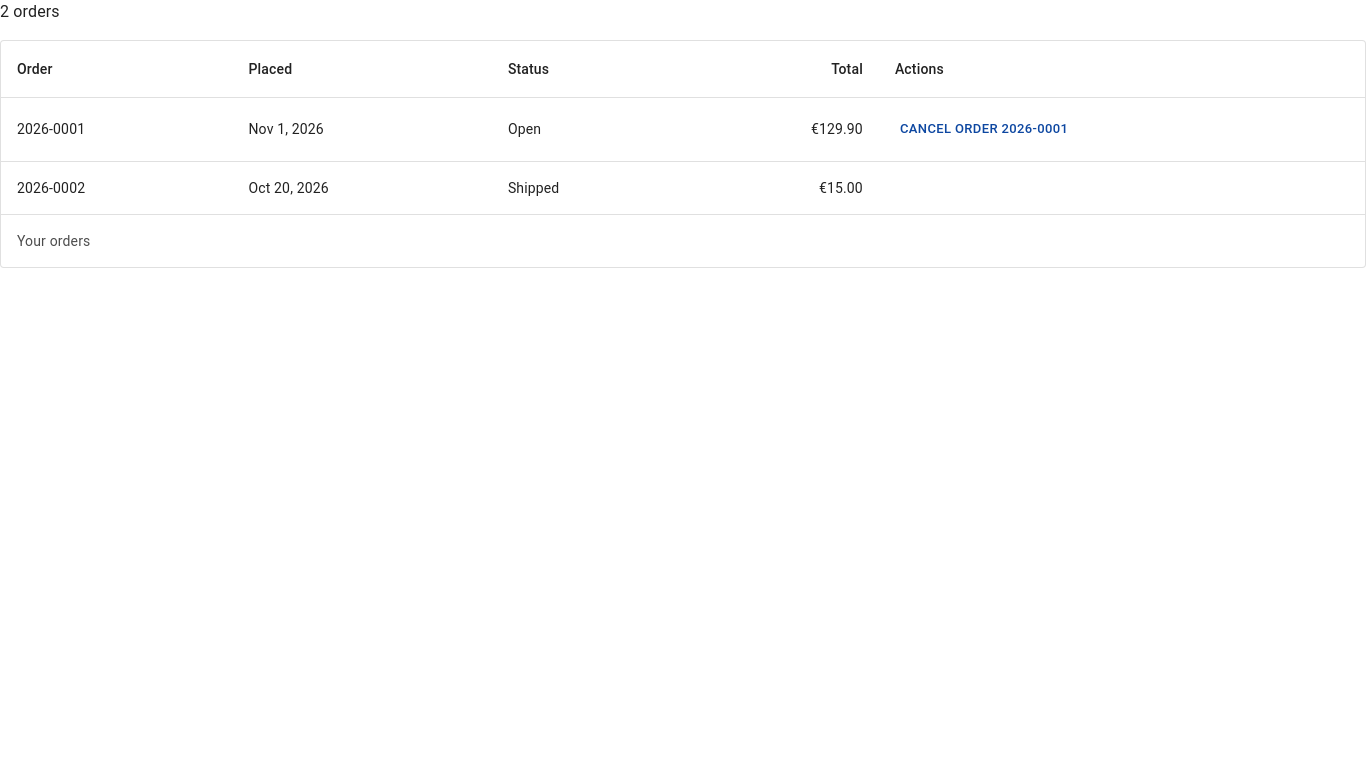
Test: OrdersPanel › shows the business error when the order already shipped, without reporting it
The width and height of the screenshot is (1366, 768).
Click the button "Cancel order 2026-0001". click: (984, 129)
box: [895,114,1073,145]
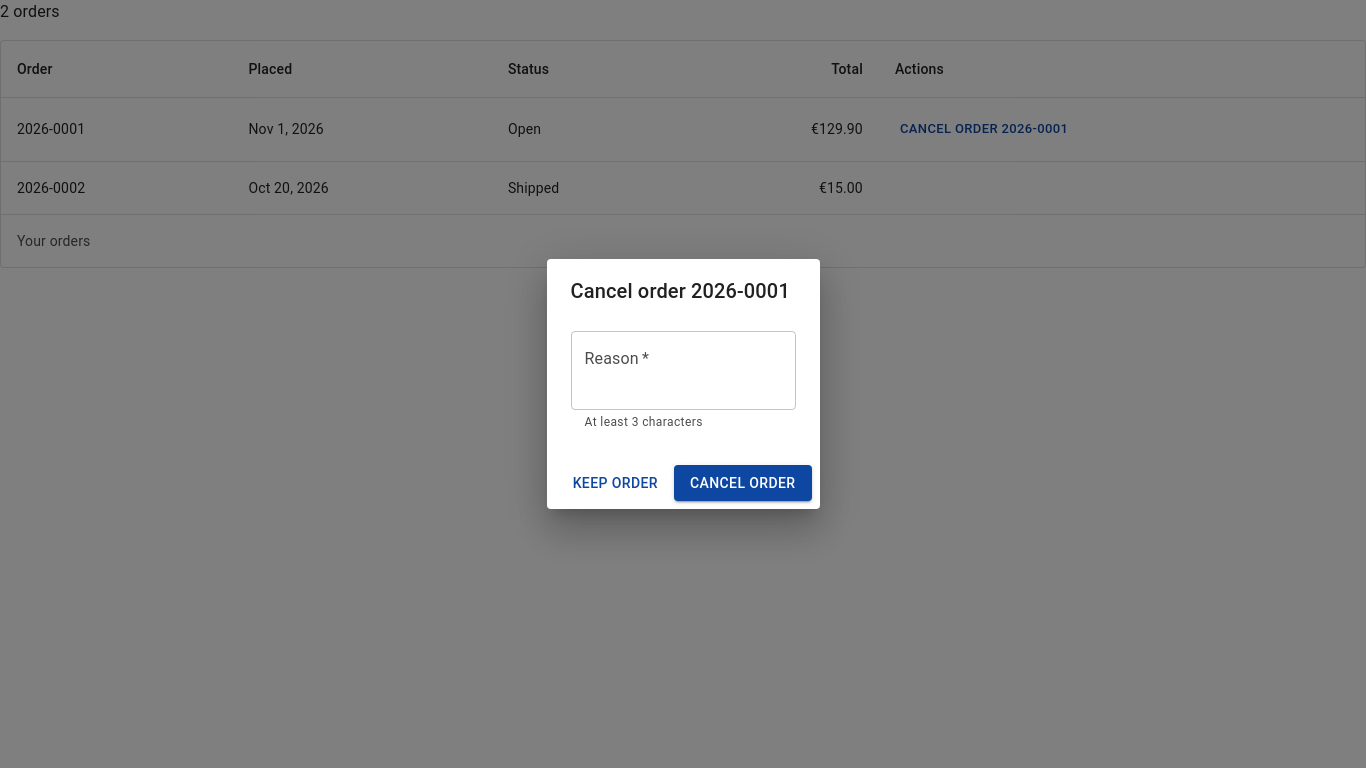
Type "changed my mind" into the text box labelled "Reason". click: (683, 370)
box: [584,347,782,393]
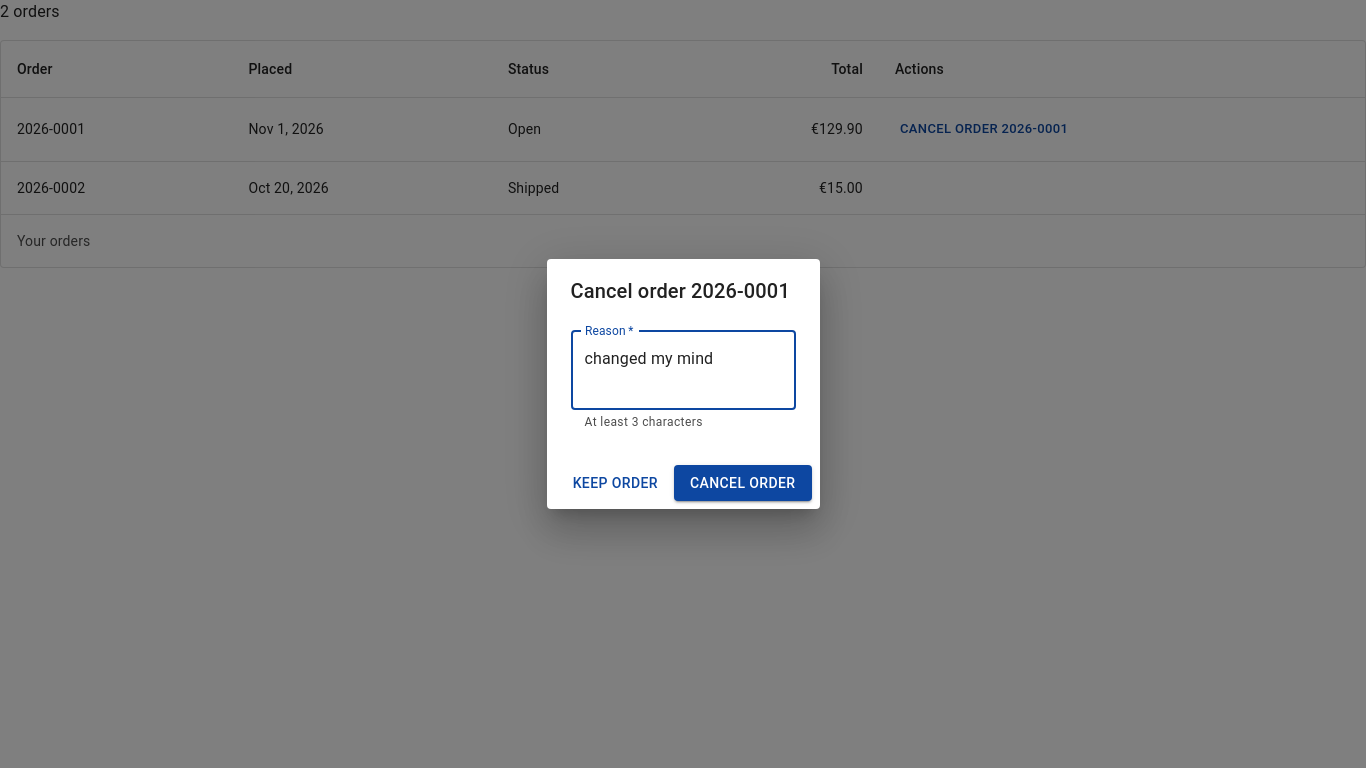
Click the button "Cancel order". click: (743, 483)
box: [674,465,812,501]
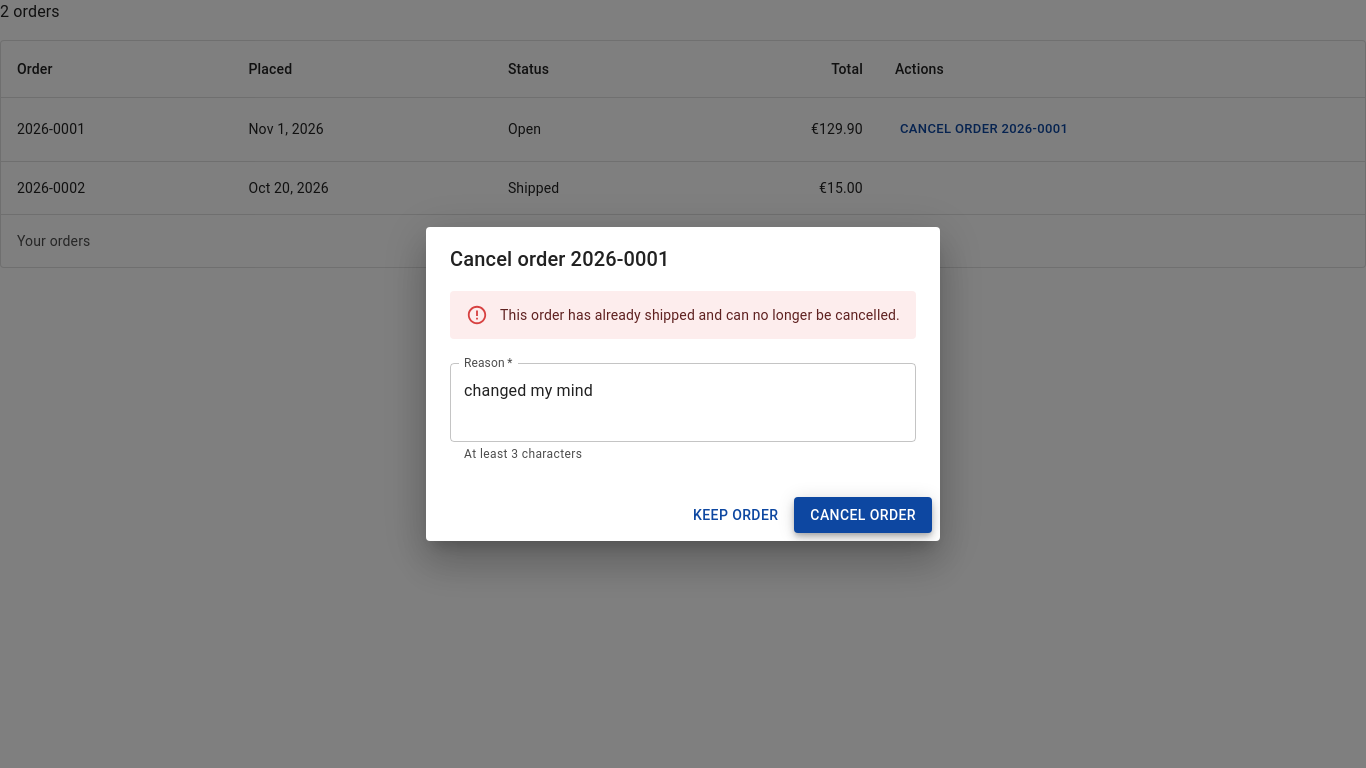
Expected: the text "This order has already shipped and can no longer be cancelled." is shown, [500,307,900,323]
